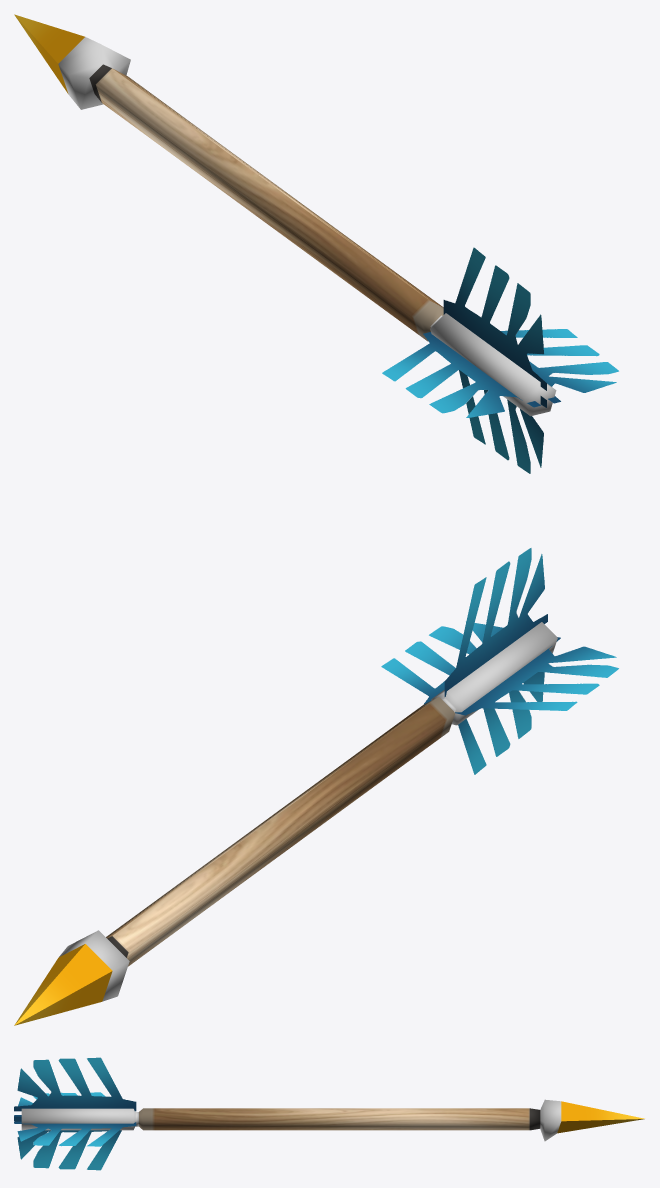
Rendered from arrow.fbx.
3 renders of one model, top to bottom at view 1: azimuth 30°, elevation 25°; view 2: azimuth 150°, elevation 25°; view 3: azimuth 270°, elevation 25°, orthographic. The views are drawn at different scales.
Visible parts, largest first — view 1: Cylinder; view 2: Cylinder; view 3: Cylinder.
Part boxes in pixels (<box>): Cylinder: <box>14,14,618,473</box>; Cylinder: <box>14,548,618,1025</box>; Cylinder: <box>14,1057,644,1170</box>.
Bounding box in the file's own units: 19.76 × 19.37 × 92.76.
2 materials, 1 textured.
